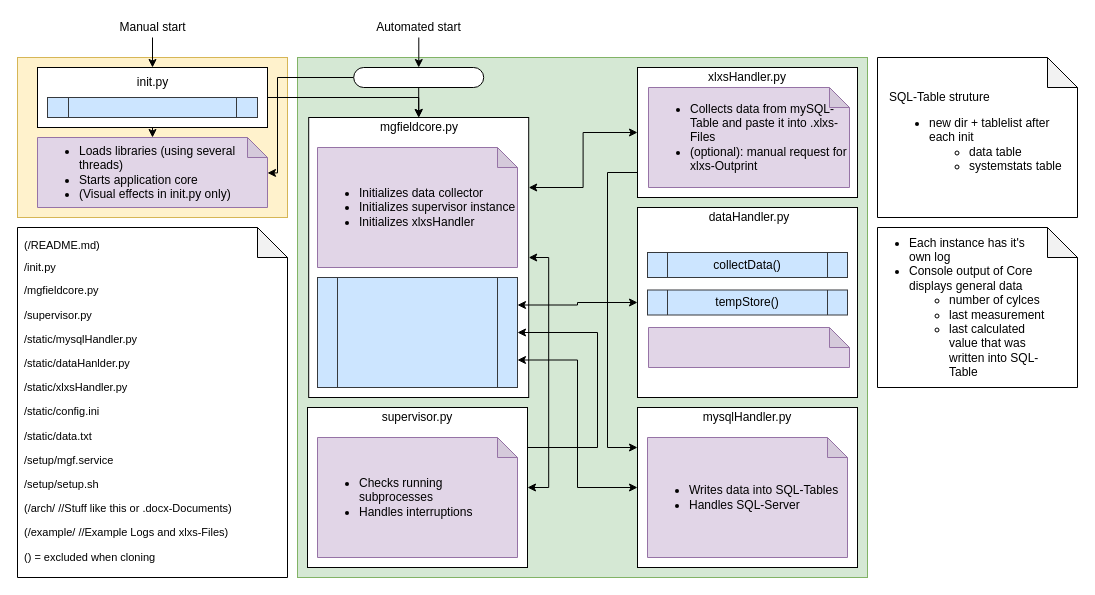
Image size: 1095x595. Some labels were removed from this diagram. Each missing label, with the centre of its shape:
class Init(): [152,107]
core() (Additional thread): [417,332]
initCore(): [418,77]
Sensor connection Return of collected data: [749,347]
